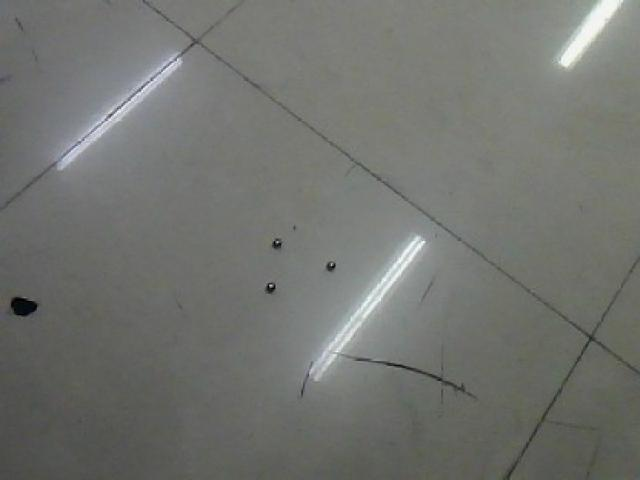steel-ball: (310, 243, 342, 282), (257, 274, 278, 300), (262, 228, 284, 252)
